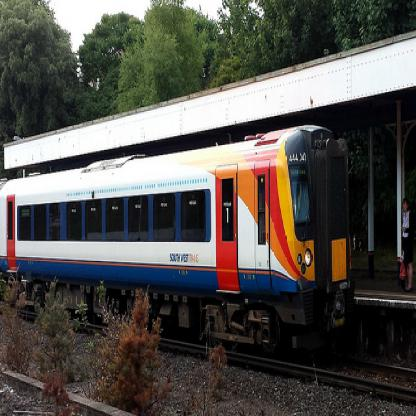handbag: (400, 250, 408, 282)
